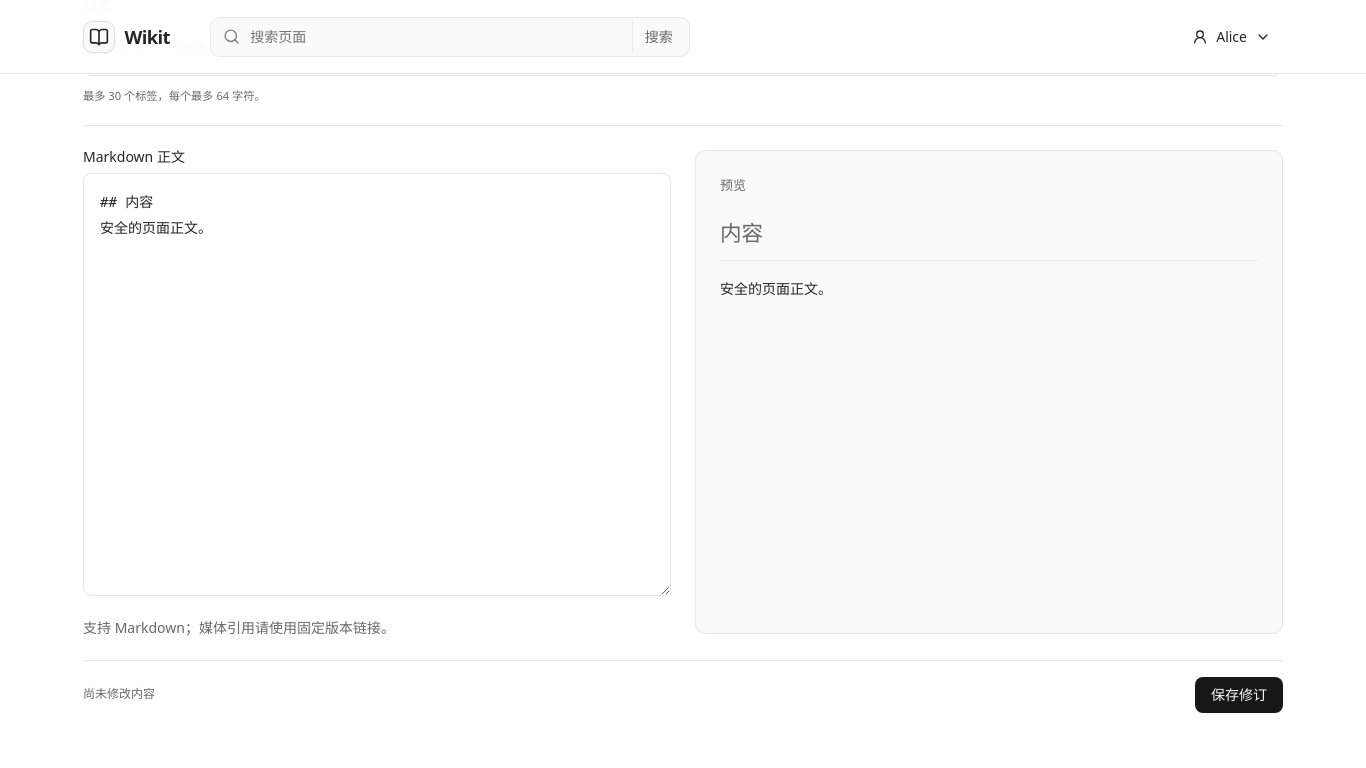
clears content and editor subtrees immediately when a request loses authentication
The image size is (1366, 768).
(page scrolled)
Replace the text in the text box labelled "Markdown 正文" with "confidential draft" at (377, 384), box [83,173,671,596]
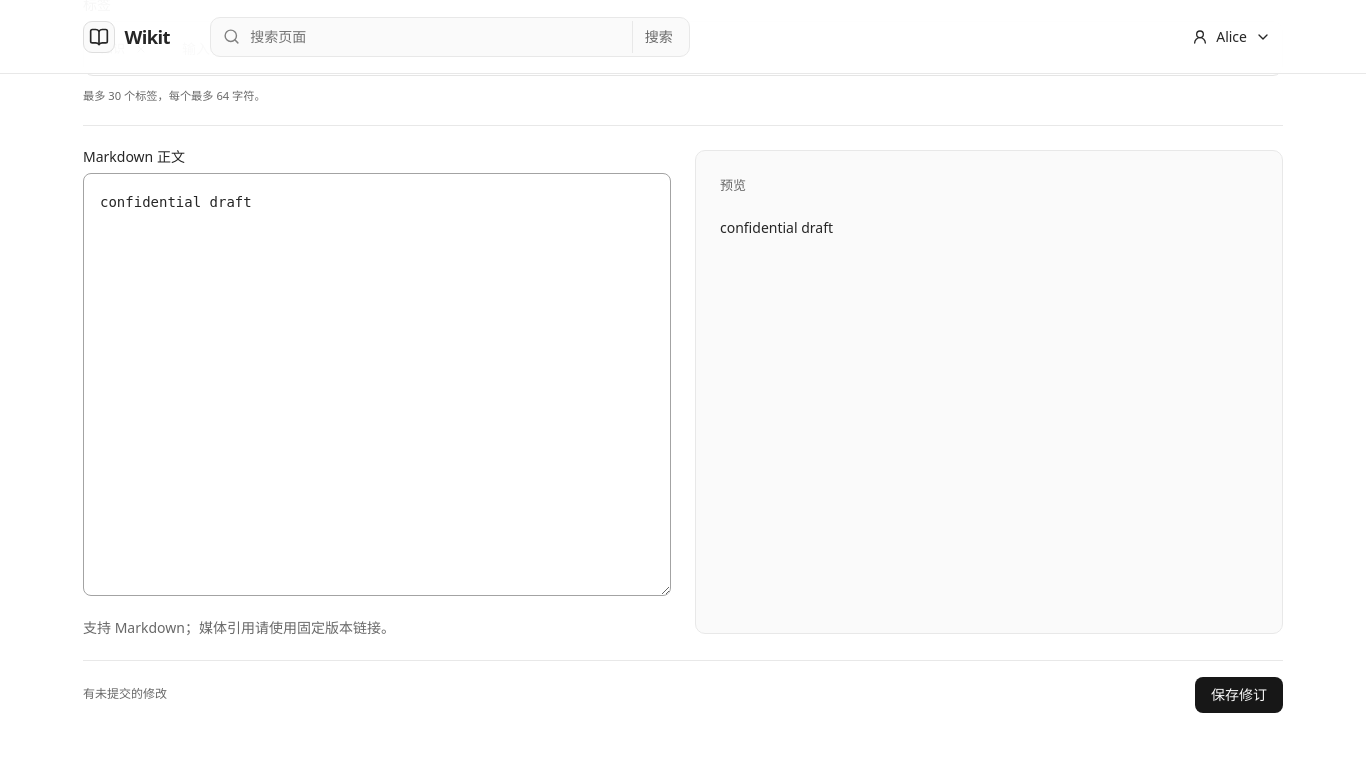
Click the button "保存修订".
click(1239, 694)  # box [1195,676,1283,712]
(page scrolled)
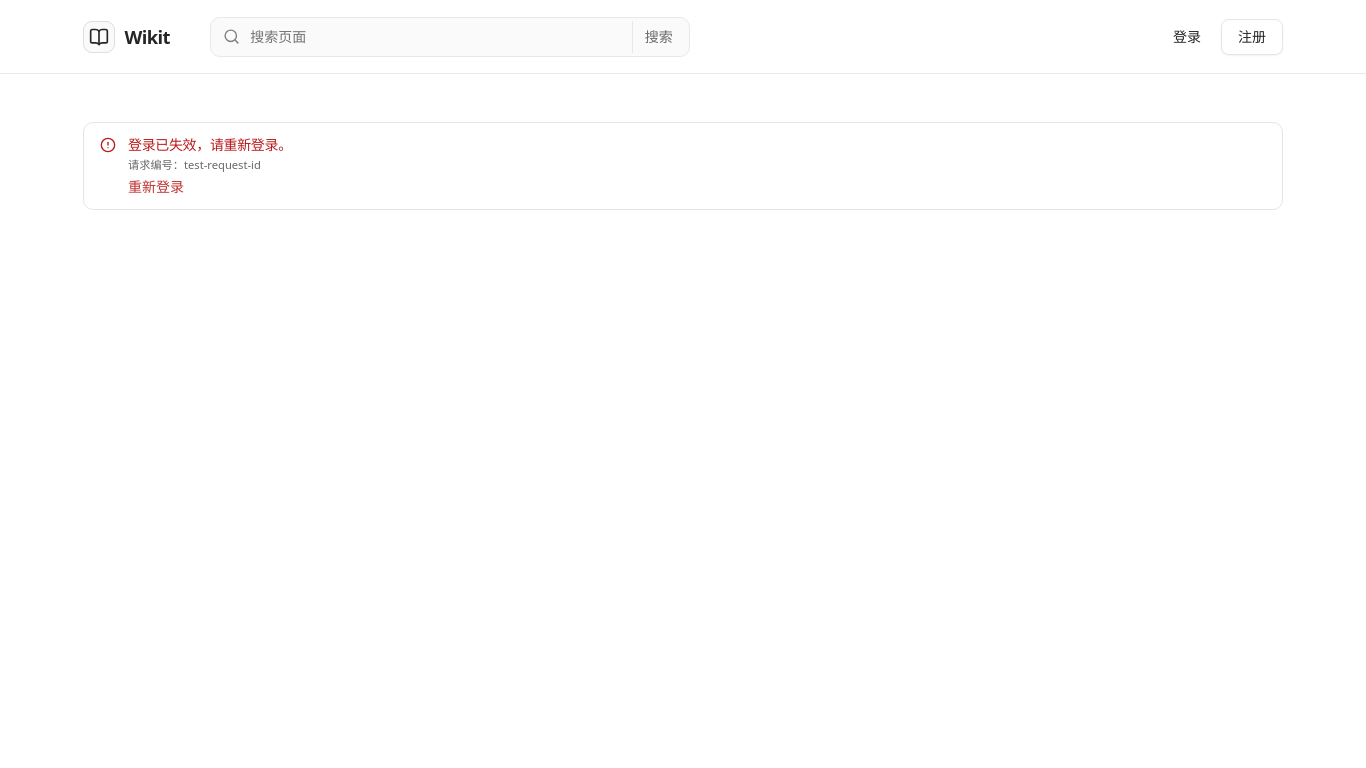
Check: the label labelled "Markdown 正文" is gone
Check: the text showing "confidential draft" is gone
